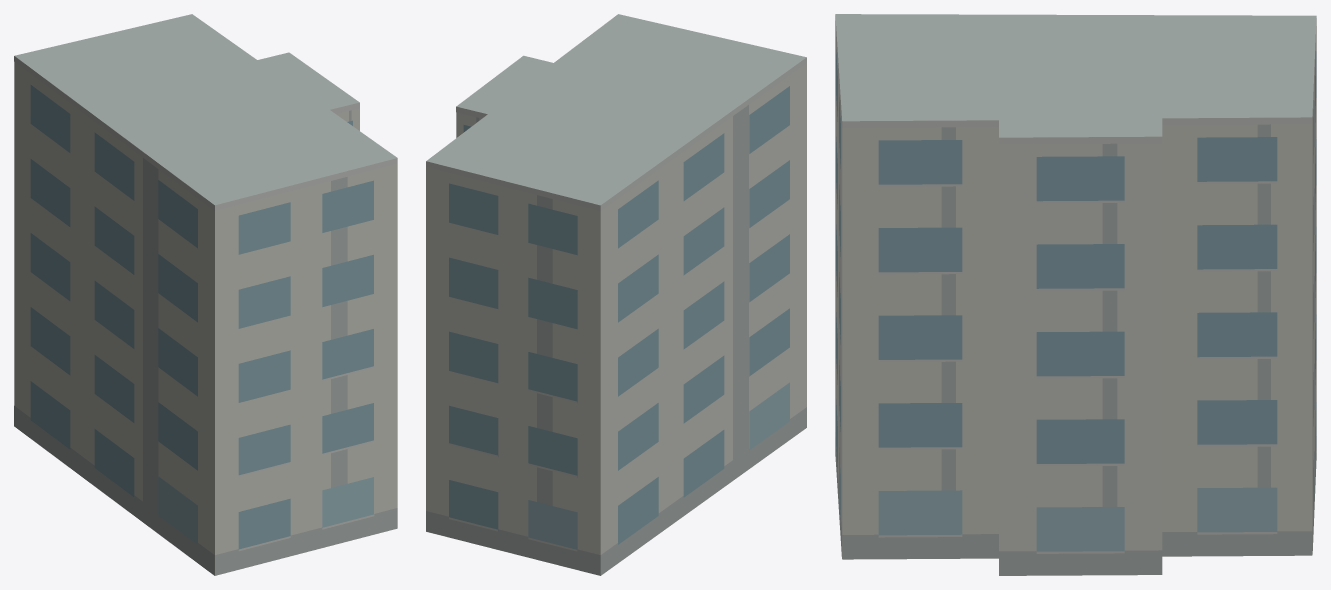
The model's file is survey-upis-32954182.glb.
3 views of the same model, side by side, from view 1: azimuth 30°, elevation 25°; view 2: azimuth 150°, elevation 25°; view 3: azimuth 270°, elevation 25° (orthographic). The views are drawn at different scales.
Parts seen in each view (by area): view 1: survey-upis-32954182.tmp; view 2: survey-upis-32954182.tmp; view 3: survey-upis-32954182.tmp.
Boxes of the visible parts, left/top/right/bottom form: survey-upis-32954182.tmp: left=14, top=14, right=397, bottom=575; survey-upis-32954182.tmp: left=426, top=14, right=806, bottom=575; survey-upis-32954182.tmp: left=835, top=14, right=1316, bottom=575.
Size of the model in its own units: 9.48 by 15.65 by 15.59.
